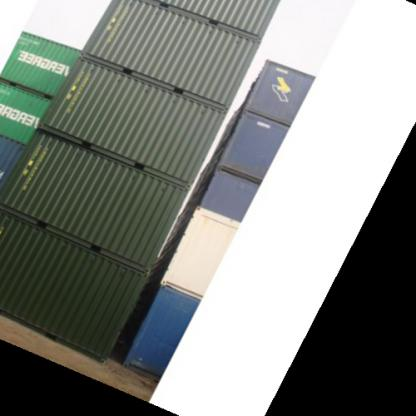Damage: (48, 232, 83, 263), (129, 164, 140, 184), (143, 85, 153, 103)
